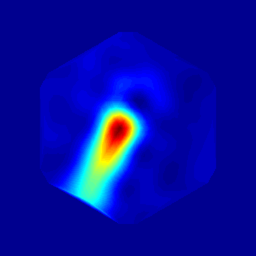ship: (120, 91, 147, 119)
wave: (113, 107, 137, 139)
